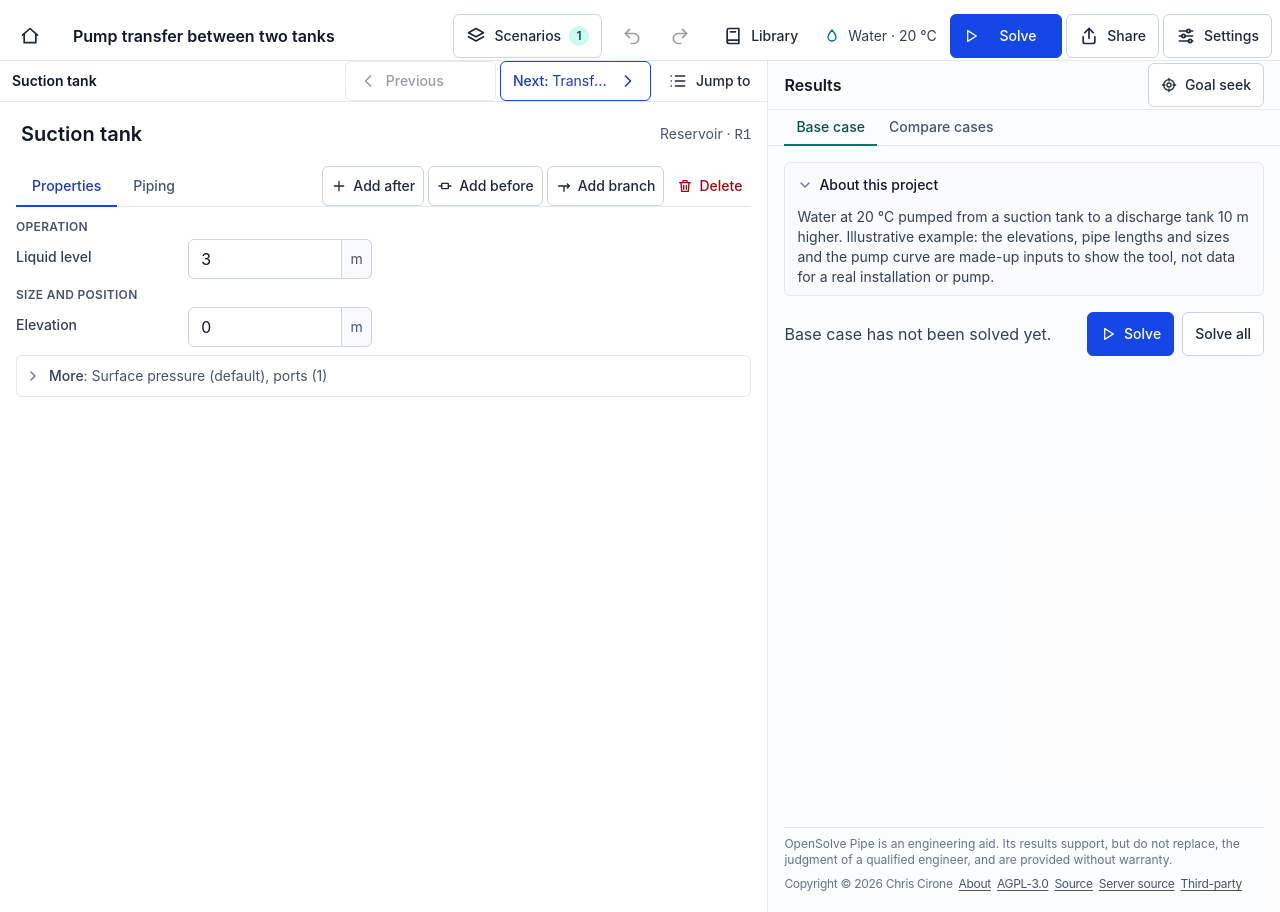
solving cases › announces the progress of Solve all in one live region
Click the tab "Compare cases" at coordinates (941, 128), box [877, 110, 1006, 146]
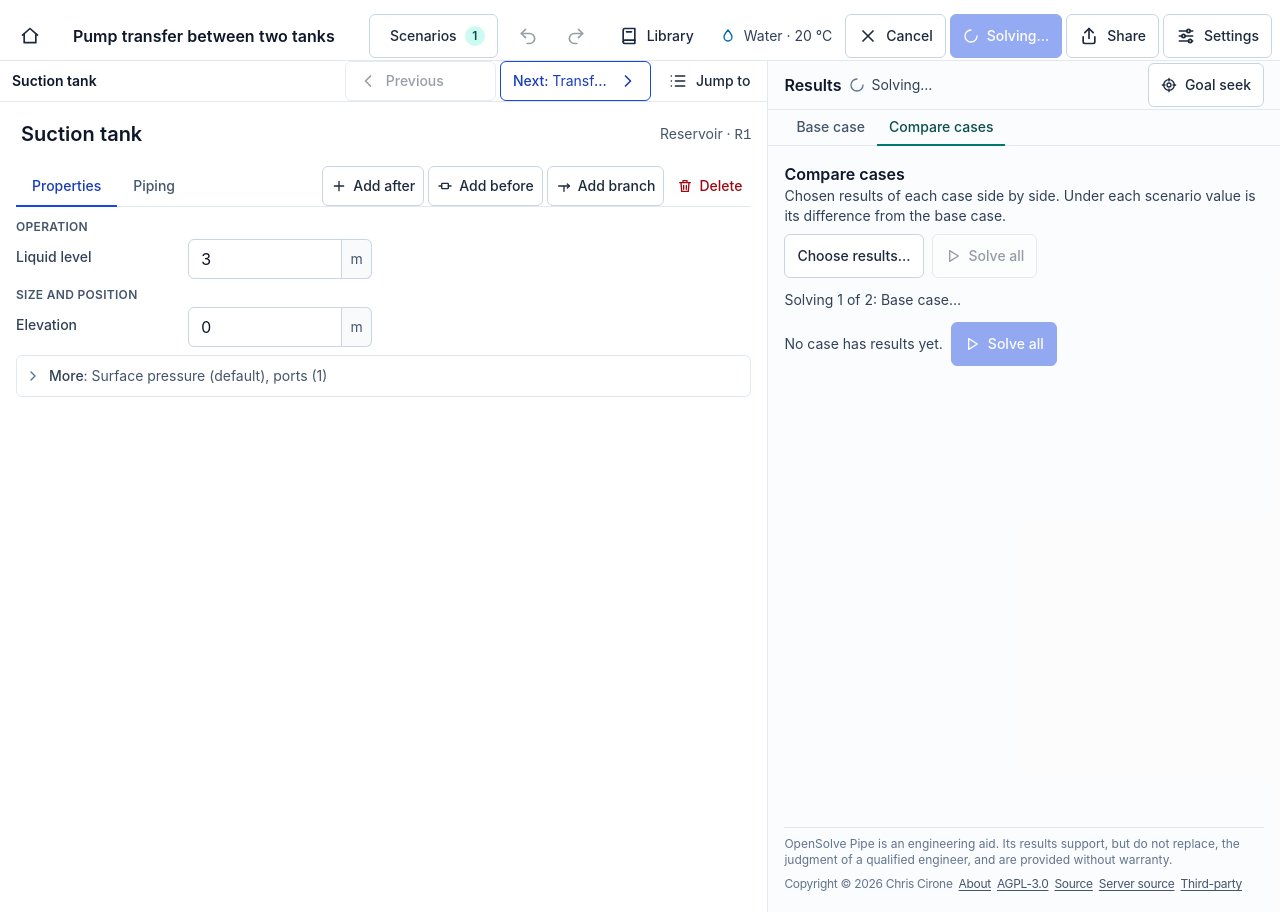
Now the element "Compare cases" shows "Solving 1 of 2: Base case…", box [784, 291, 961, 308]
